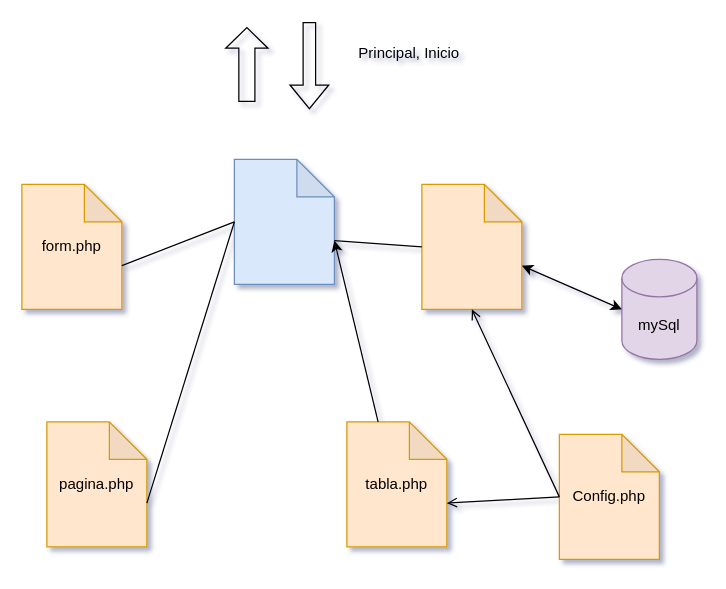
Image size: 726x589. Some labels were removed from this diagram. The box of each missing label's shape, as (x1, y1, x2, y2) in pixels:
01.php: (233, 158, 334, 284)
BaseDatos.php: (421, 183, 522, 309)
